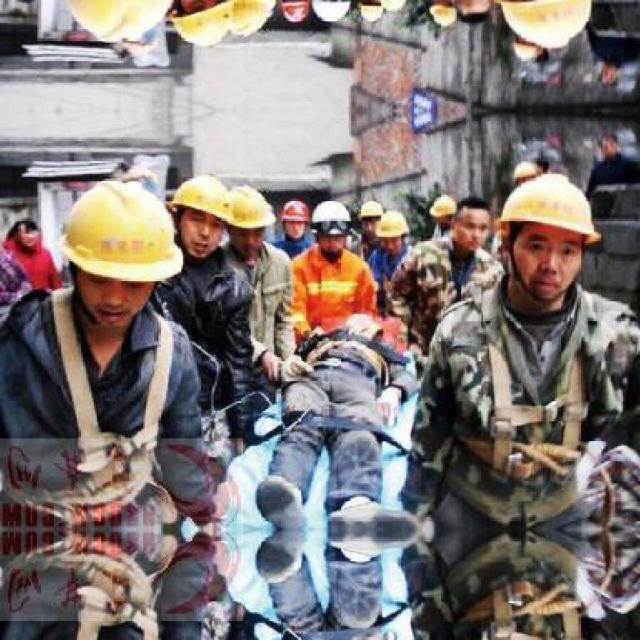Reflective-Jacket: (0, 291, 183, 631), (286, 246, 379, 340)
Safety-Helmet: (54, 176, 184, 286), (492, 172, 603, 246), (167, 169, 236, 229), (222, 181, 278, 237), (305, 194, 357, 234), (371, 206, 414, 243), (424, 189, 462, 223), (356, 196, 390, 227), (506, 157, 546, 183)
